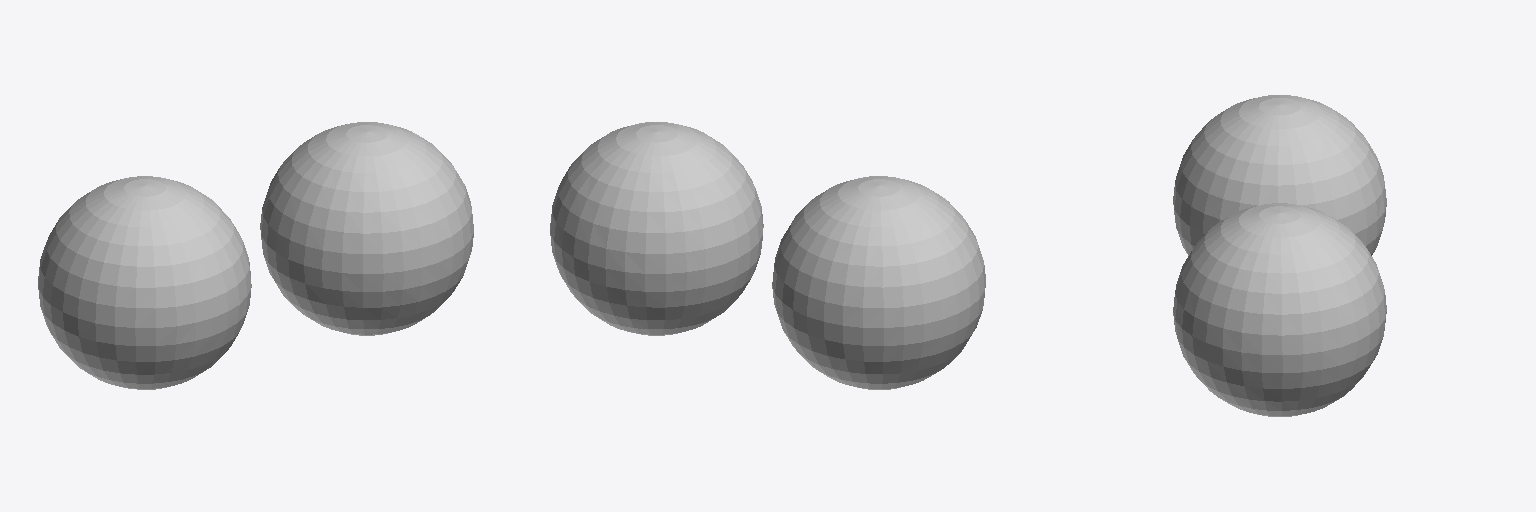
File: ojosd2.obj
3 renders of one model, left to right at view 1: azimuth 30°, elevation 25°; view 2: azimuth 150°, elevation 25°; view 3: azimuth 270°, elevation 25°, orthographic.
Parts seen in each view (by area): view 1: Eyes_001; view 2: Eyes_001; view 3: Eyes_001.
Boxes of the visible parts, box(x1,y1,x2,y2) form: Eyes_001: box(38, 122, 473, 389); Eyes_001: box(550, 122, 985, 389); Eyes_001: box(1173, 95, 1386, 416).
Size of the model in its own units: 0.166 by 0.0756 by 0.0754.